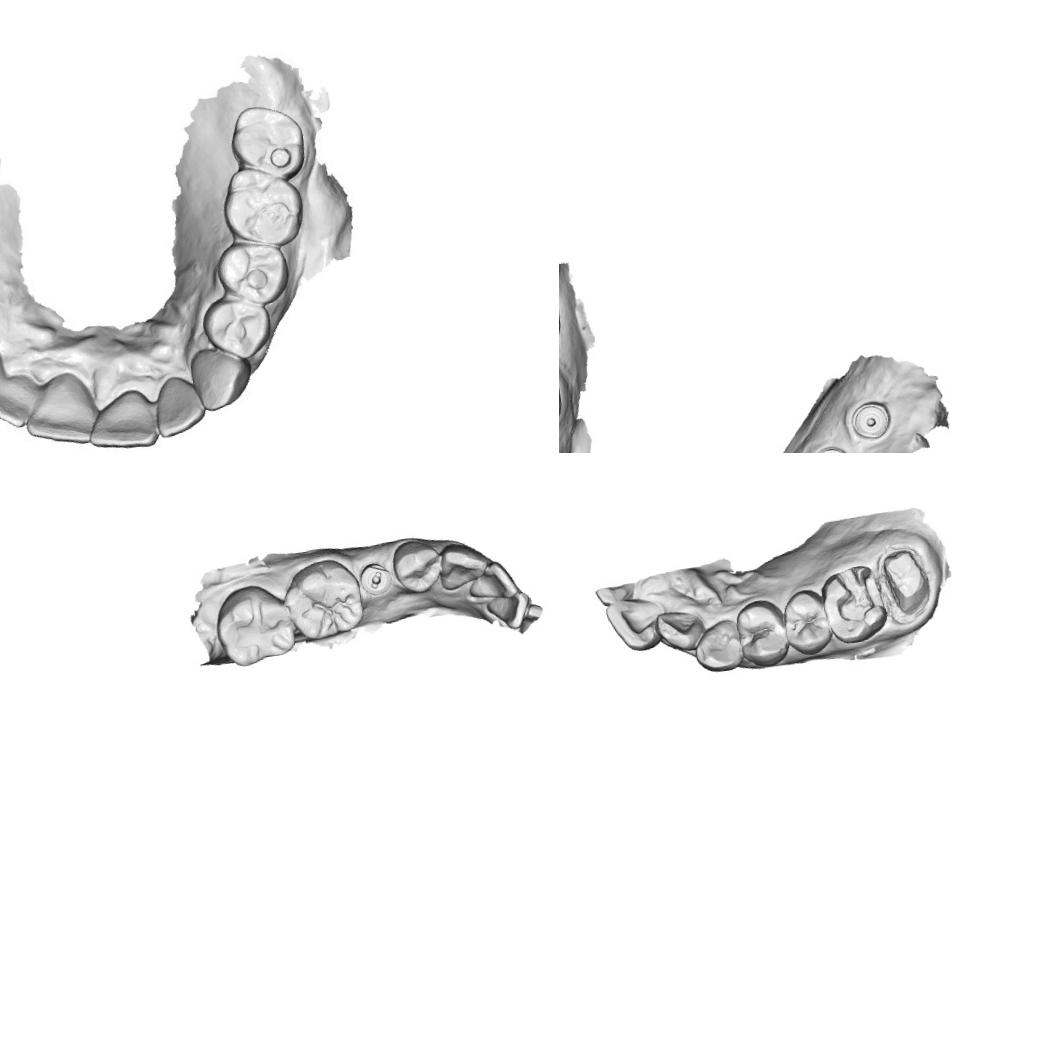canine: (188, 344, 252, 413), (690, 616, 746, 676), (434, 538, 492, 593)
crown: (878, 543, 936, 619)
implant: (850, 396, 894, 442)
implant_minus: (356, 558, 395, 598)
incisor: (24, 374, 94, 444), (603, 592, 674, 656), (87, 390, 157, 453), (150, 370, 208, 436), (652, 605, 707, 655), (465, 558, 521, 606), (483, 589, 534, 633), (0, 374, 40, 428)
inlay: (830, 564, 886, 632)
molar: (209, 580, 300, 672), (279, 552, 368, 645), (218, 157, 304, 250), (228, 100, 307, 179)
premolar: (201, 290, 272, 362), (218, 236, 288, 306), (732, 596, 793, 670), (778, 586, 836, 658), (389, 536, 446, 598)
